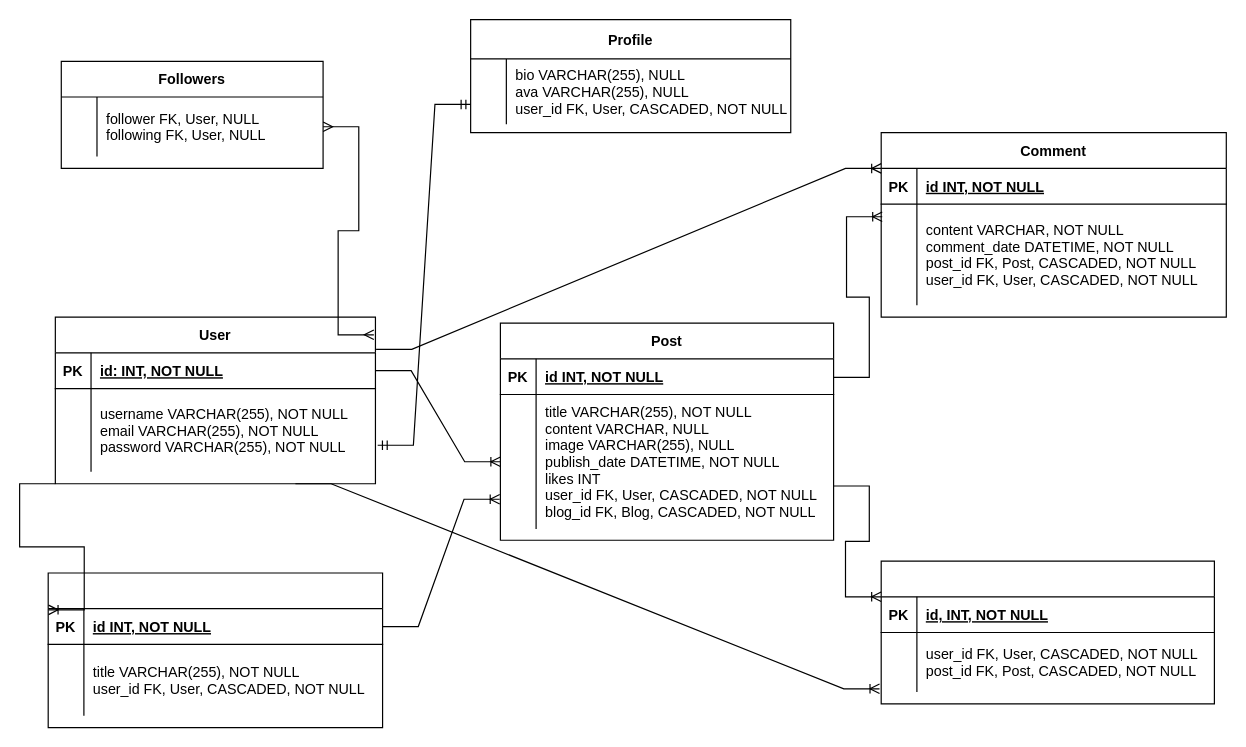
Image size: 1246x747. Some labels were removed from this diagram. Each missing label, with the box of its shape:
Blog: (47, 572, 383, 728)
Like: (880, 560, 1214, 704)
